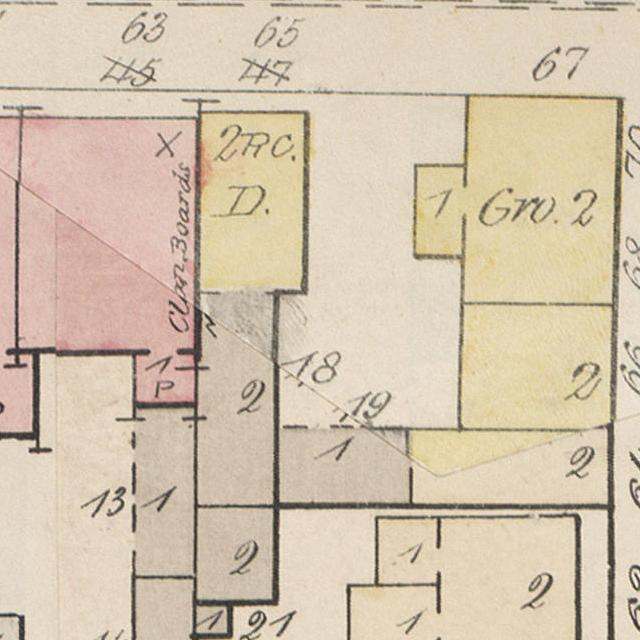building-footprints: (17, 116, 198, 405), (195, 112, 307, 506), (415, 95, 620, 304), (348, 515, 577, 640), (460, 303, 615, 429), (406, 427, 611, 507), (276, 426, 412, 506), (134, 403, 195, 577), (195, 505, 276, 603), (133, 576, 195, 640), (195, 603, 230, 636)
